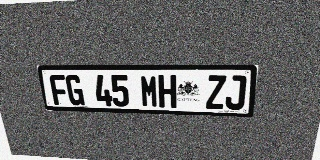4: (93, 75, 113, 106)
5: (110, 75, 130, 107)
F: (49, 75, 69, 105)
G: (65, 75, 85, 106)
H: (158, 75, 176, 108)
J: (225, 75, 247, 110)
M: (140, 75, 158, 108)
Z: (206, 75, 226, 109)
